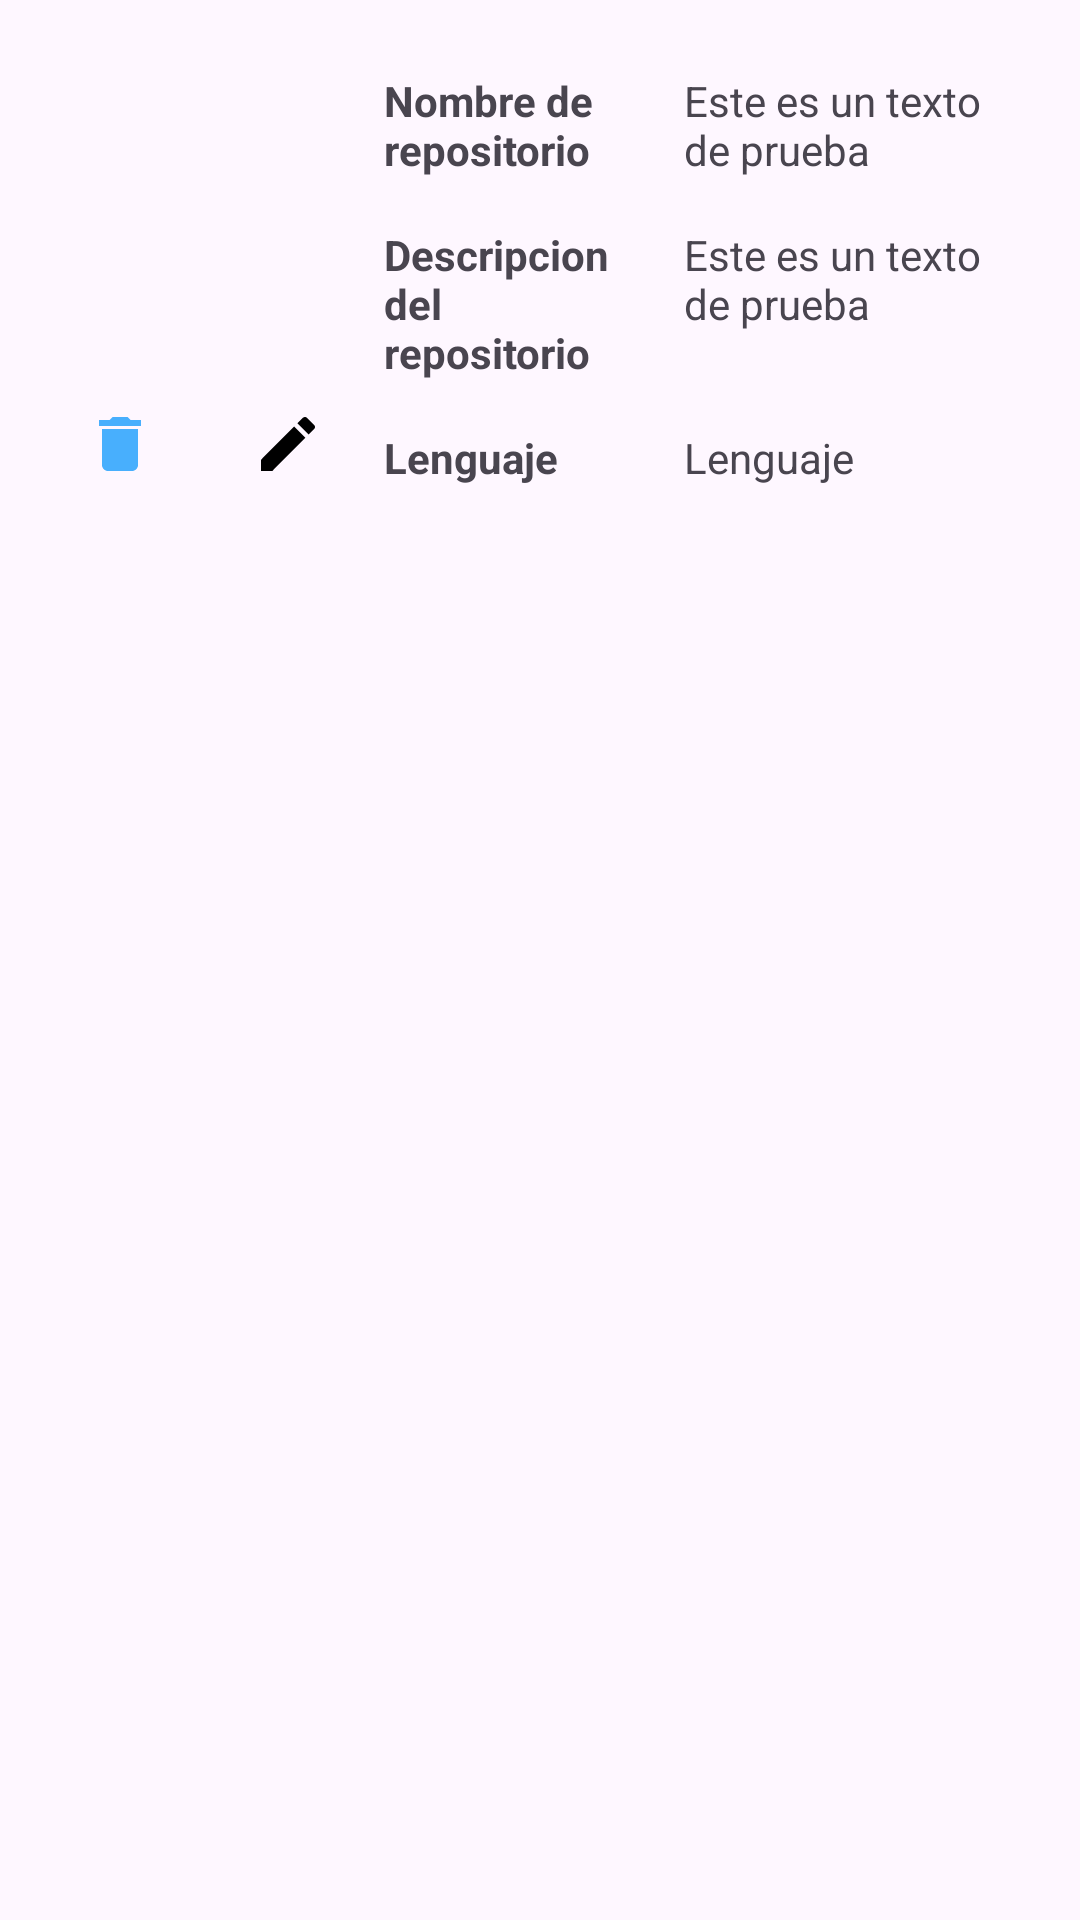

Where icons sit on this 1080 x 1920 app screen, as region(x1, y1, x2, y2):
Editar repositorio: region(261, 417, 315, 471)
Eliminar repositorio: region(99, 417, 141, 471)
